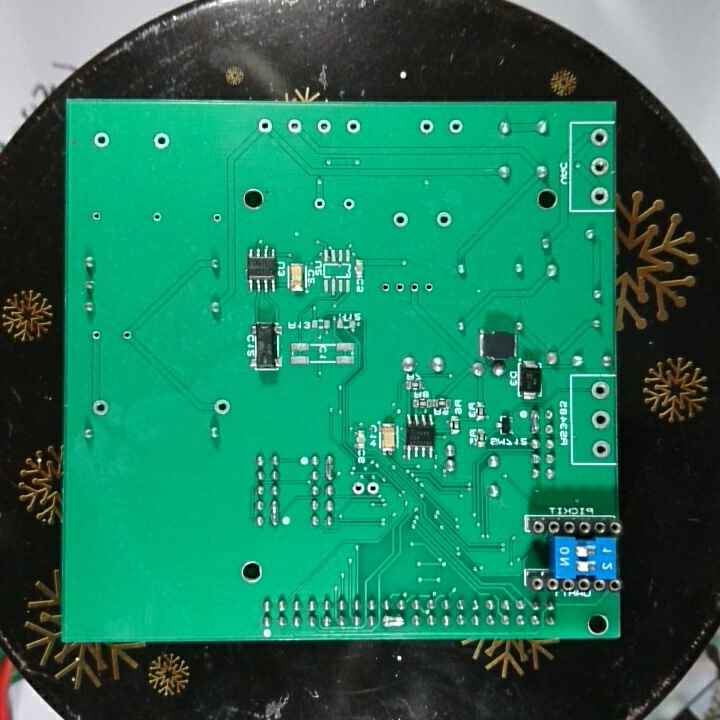F: (588, 409, 613, 432), (588, 438, 614, 460), (587, 126, 611, 149), (588, 380, 612, 403), (587, 155, 610, 178), (433, 209, 456, 232), (588, 184, 611, 206), (212, 395, 234, 418), (150, 130, 173, 151), (254, 115, 274, 138), (313, 117, 335, 137), (389, 210, 411, 230), (91, 130, 111, 151), (90, 397, 110, 418), (285, 116, 304, 138), (445, 117, 465, 137), (418, 117, 437, 137), (365, 478, 382, 499), (344, 117, 361, 137), (340, 195, 358, 213), (350, 479, 366, 499), (312, 195, 329, 212), (408, 280, 422, 297), (119, 328, 134, 343), (89, 209, 104, 223), (151, 209, 164, 225), (393, 280, 406, 296), (90, 329, 104, 343), (379, 279, 391, 295), (422, 281, 435, 295), (211, 209, 223, 223)
P: (379, 613, 408, 632), (322, 451, 337, 483), (528, 407, 542, 436), (268, 498, 281, 529)
